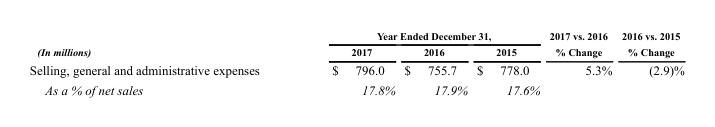table: (28, 29, 683, 96)
table column: (28, 29, 295, 96), (295, 29, 398, 96), (398, 29, 471, 96), (543, 29, 616, 96), (471, 29, 543, 96), (616, 29, 683, 96)
table column header: (28, 29, 683, 60)
table row: (28, 60, 683, 79), (28, 43, 683, 60), (28, 79, 683, 96), (28, 29, 683, 43)
table spanning cell: (28, 29, 295, 60), (295, 29, 543, 43), (543, 29, 616, 60), (616, 29, 683, 60)
